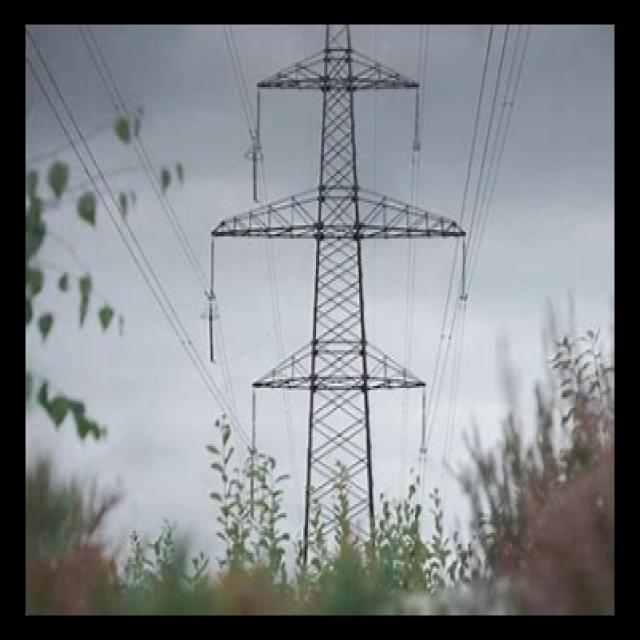utility poles: (203, 346, 476, 614)
